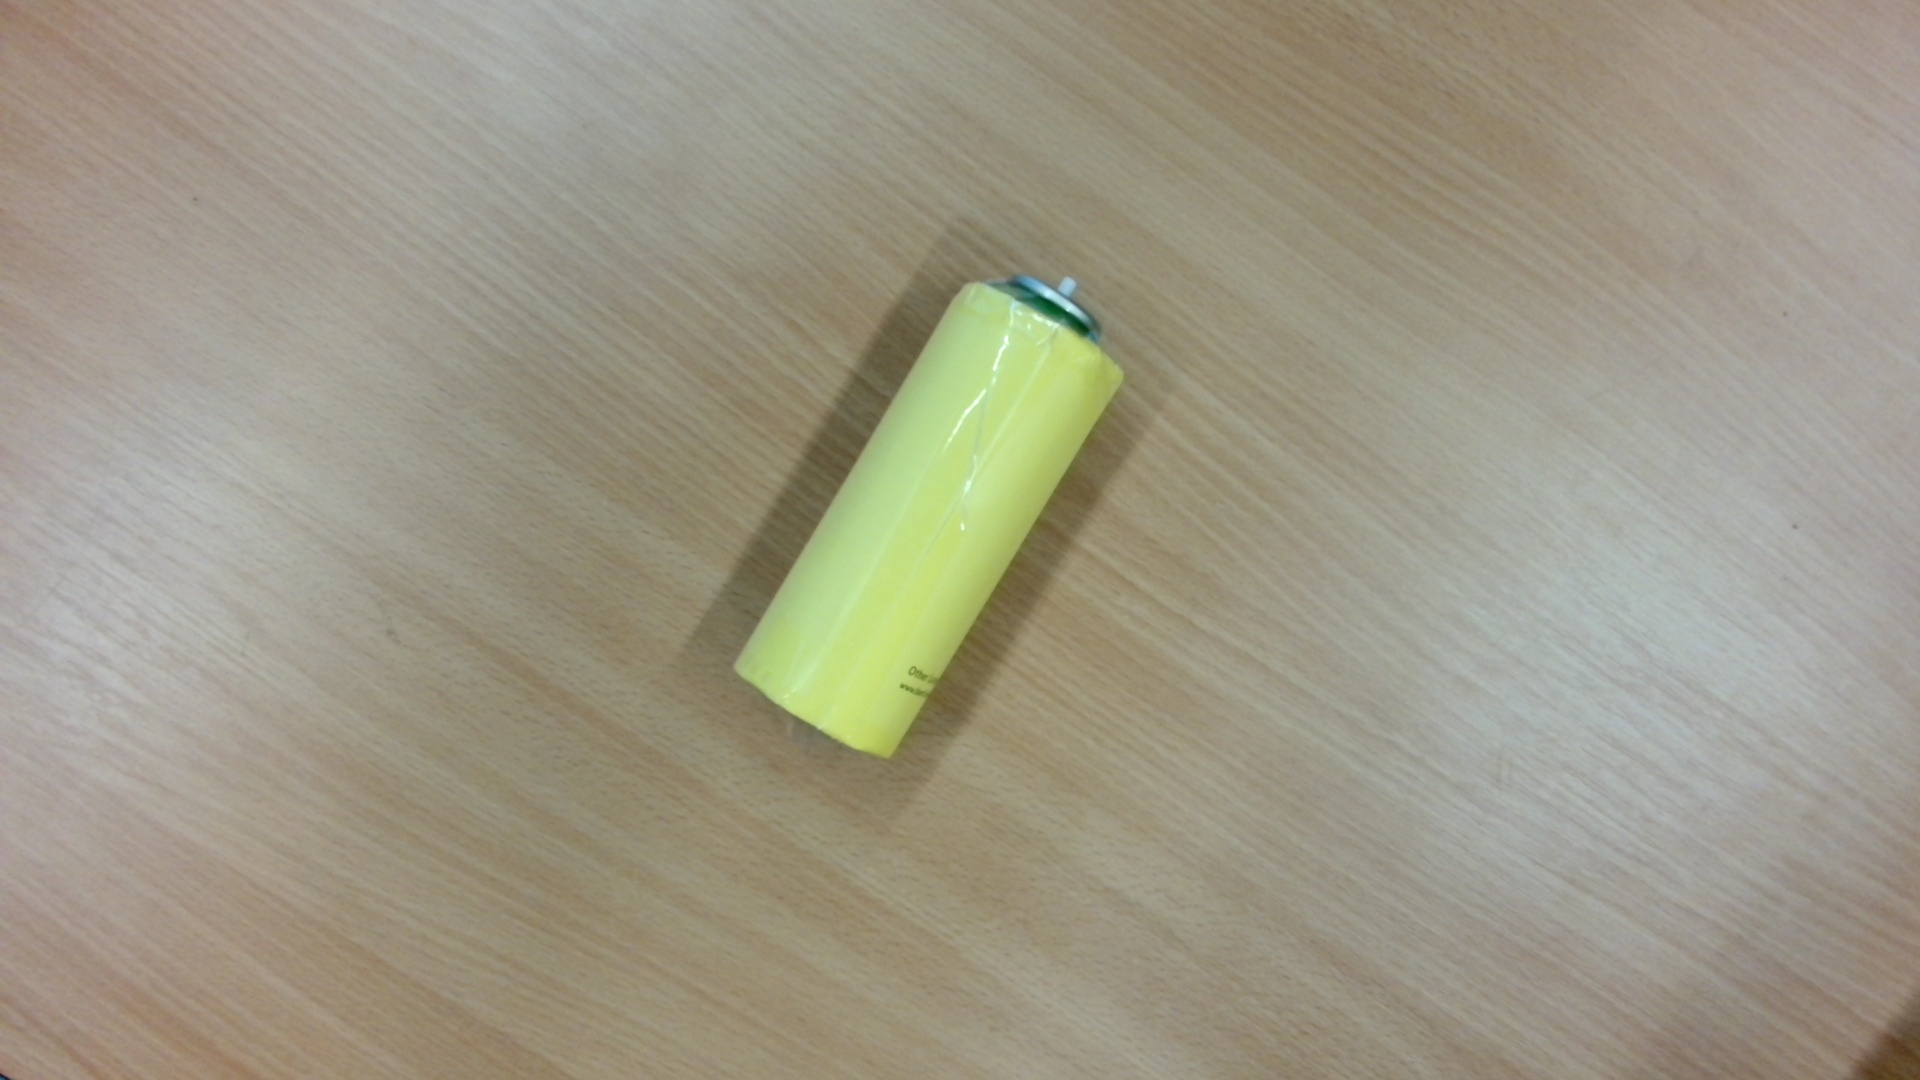Cylinder: (712, 260, 1153, 779)
